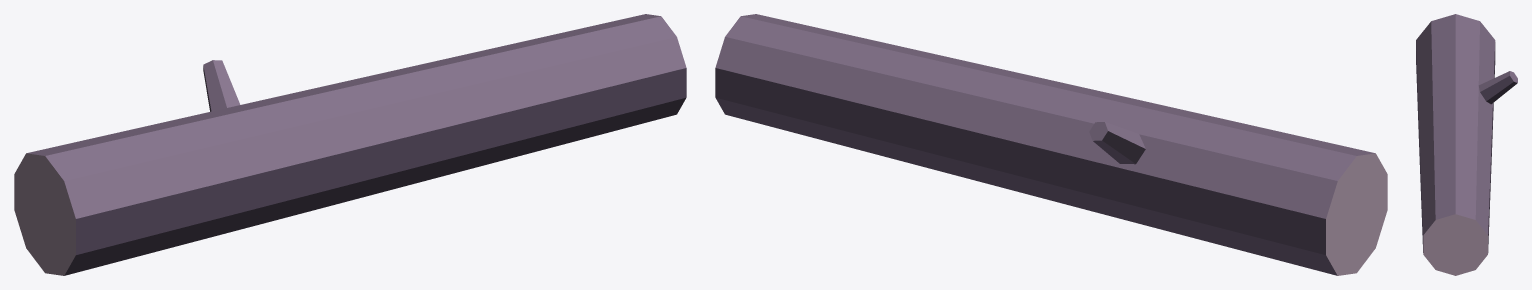
Rendered from TW_PROP_LOG_STRAIGHT_A_LOD0.glb.
The picture shows the model from 3 angles, left to right: view 1: azimuth 30°, elevation 25°; view 2: azimuth 150°, elevation 25°; view 3: azimuth 270°, elevation 25°; orthographic projection. The views are drawn at different scales.
Visible parts, largest first — view 1: TW_PROP_LOG_STRAIGHT_A_LOD0; view 2: TW_PROP_LOG_STRAIGHT_A_LOD0; view 3: TW_PROP_LOG_STRAIGHT_A_LOD0.
Part boxes in pixels (box(x1,y1,x2,y2)): TW_PROP_LOG_STRAIGHT_A_LOD0: box(14, 14, 686, 275); TW_PROP_LOG_STRAIGHT_A_LOD0: box(715, 14, 1387, 275); TW_PROP_LOG_STRAIGHT_A_LOD0: box(1416, 14, 1517, 275).
Bounding box in the file's own units: 2.2 × 0.4473 × 0.4894.
Materials: 1 (1 with a texture image).
